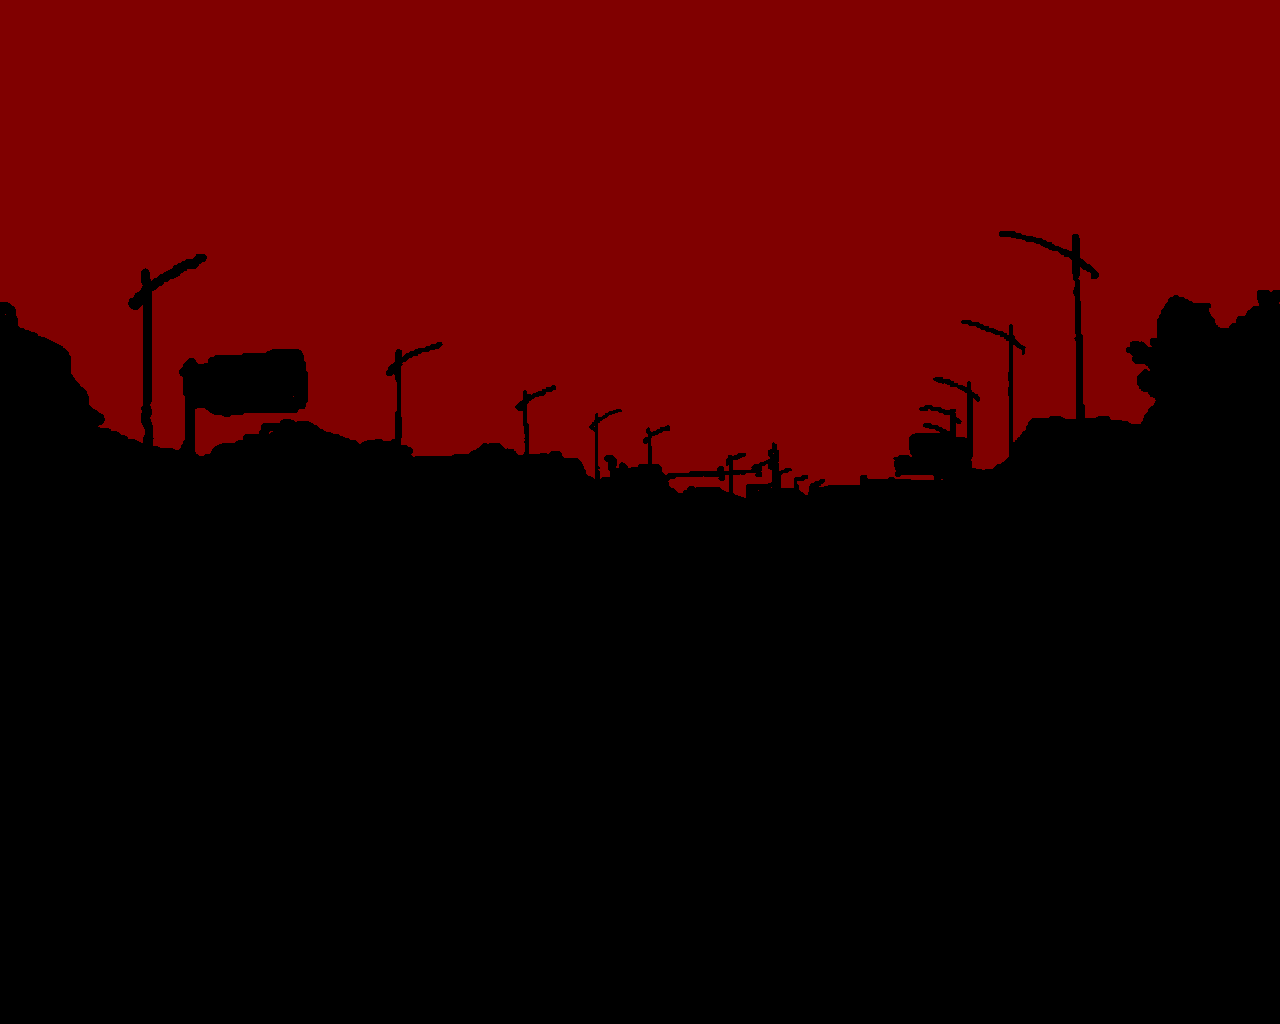Sky: (1, 1, 1279, 498)
